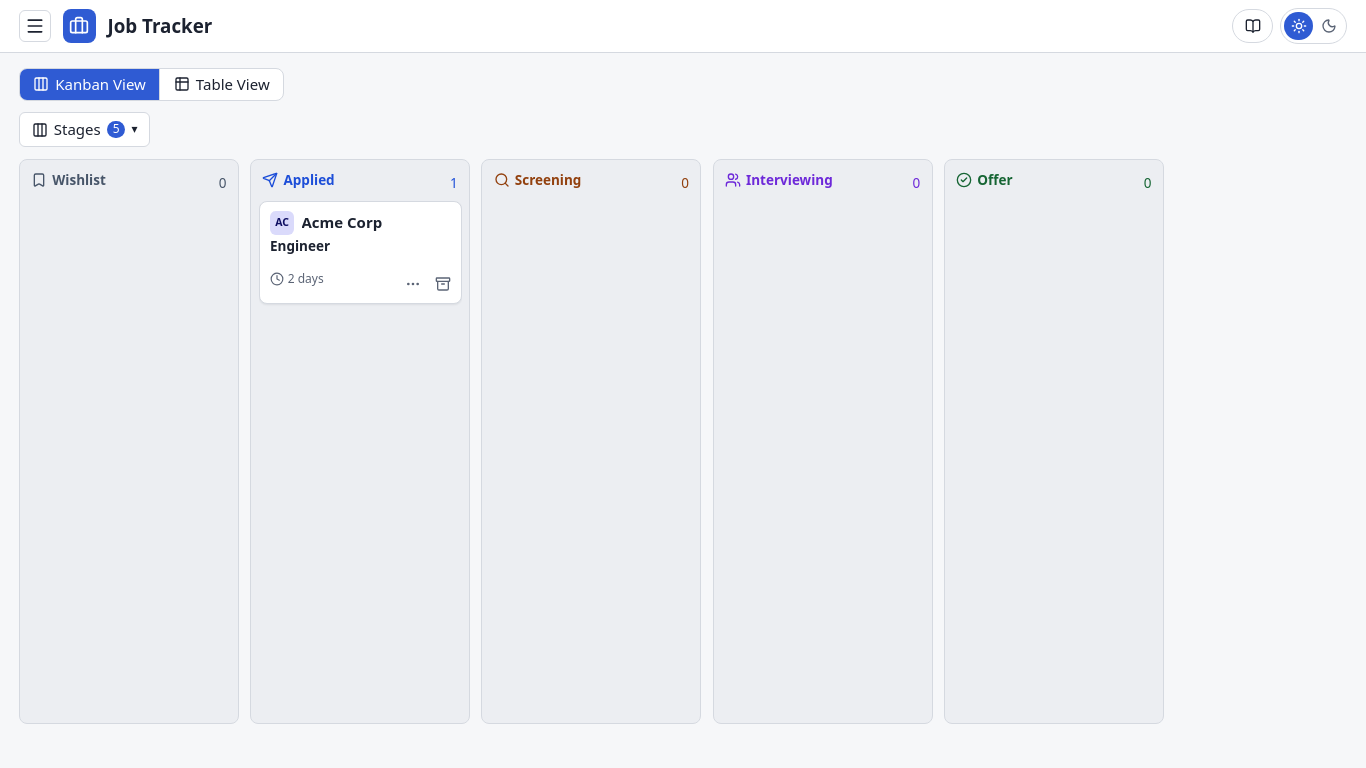
Test: the sidebar on a narrow screen (spec 014, AC-8, AC-9, AC-10) › closes after I choose an entry, opens its table, and focus goes to the page (AC-9)
expect the button "AC Acme Corp Engineer 2 days" is shown: met, box [258,201,462,304]
Click the button named "Menu". click: (35, 26)
box: [19,10,51,42]
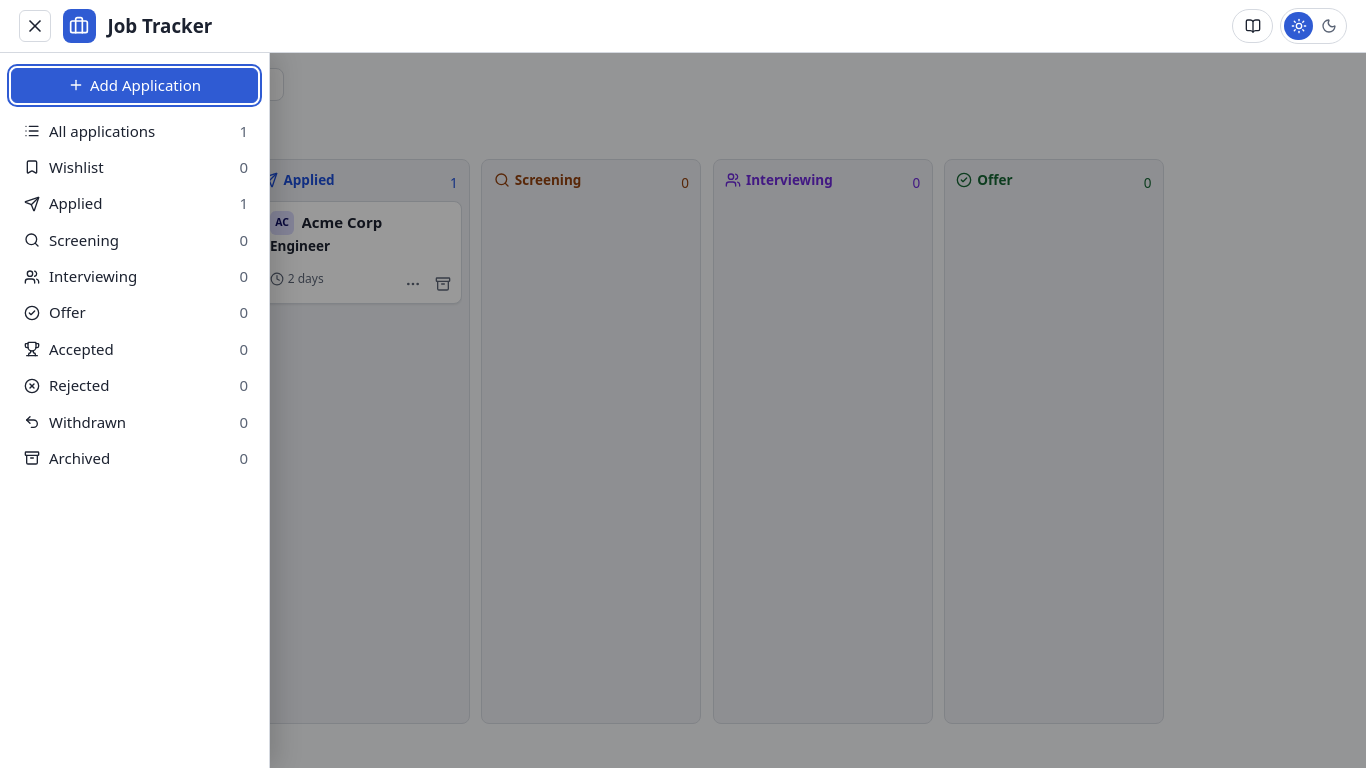
Click the link "Applied 1". click: (76, 203)
box: [24,193,248,213]
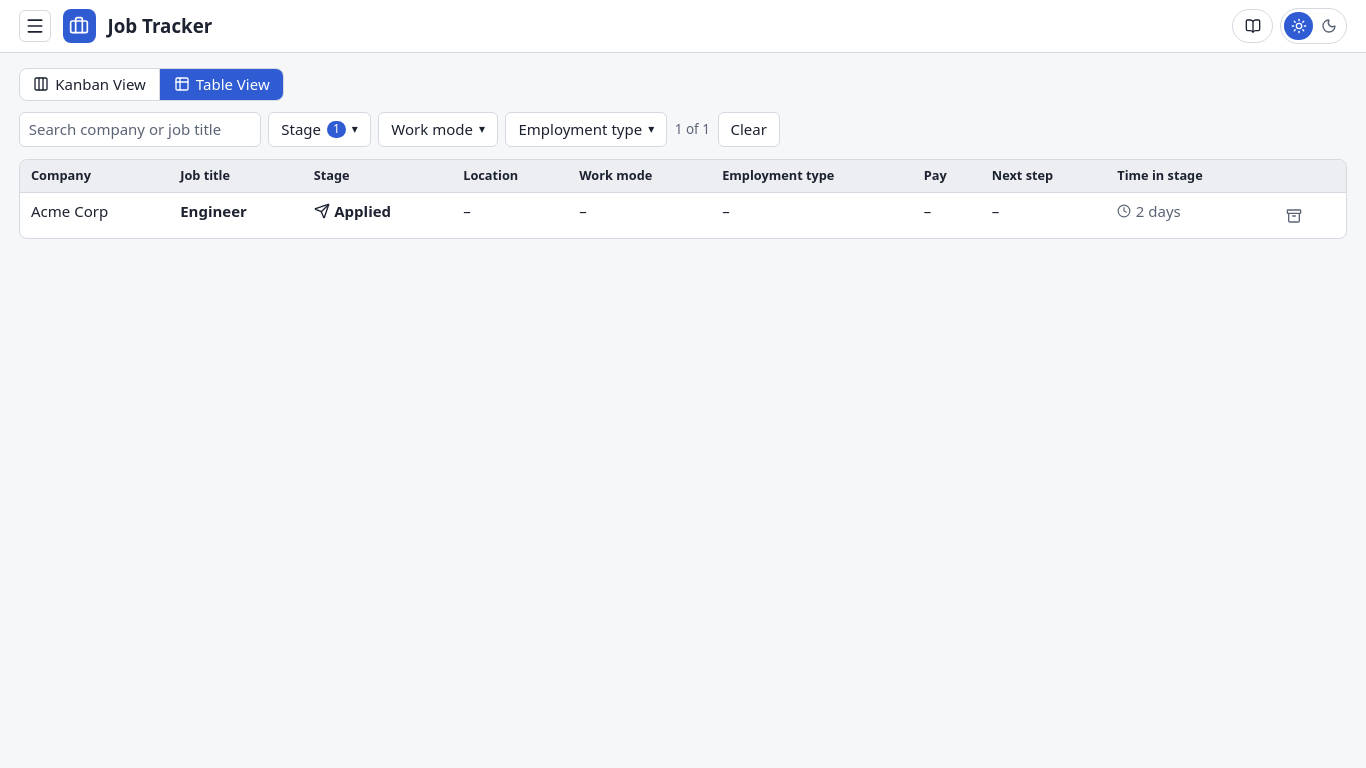
expect the table is shown: met, box [20,160,1346,238]
